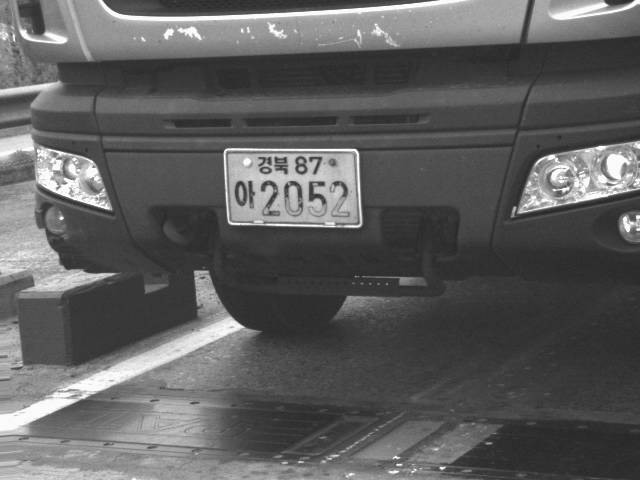car: (10, 1, 640, 333)
plate: (221, 146, 365, 230)
